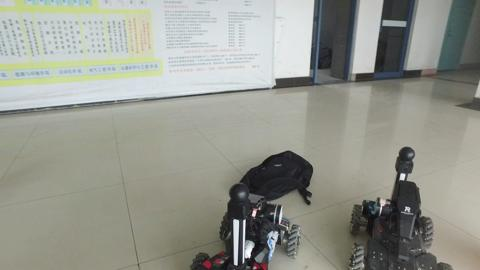chariot: (345, 144, 455, 268), (188, 182, 302, 268)
